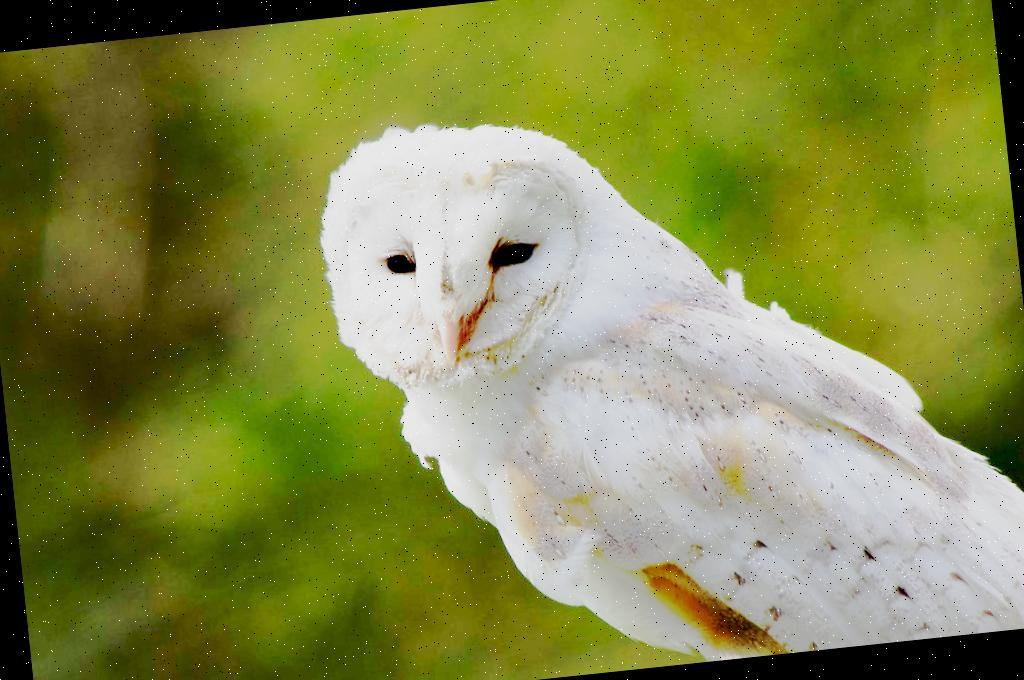Owl: (296, 48, 1024, 680)
